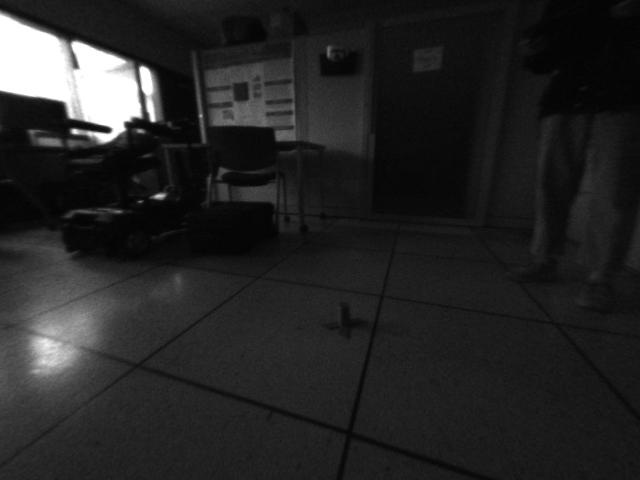x: (322, 297, 366, 342)
